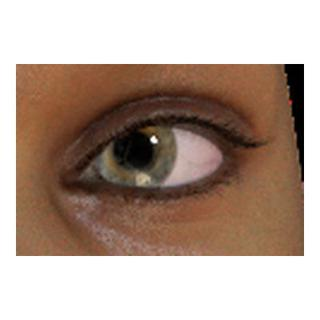pupil: (113, 130, 152, 169)
